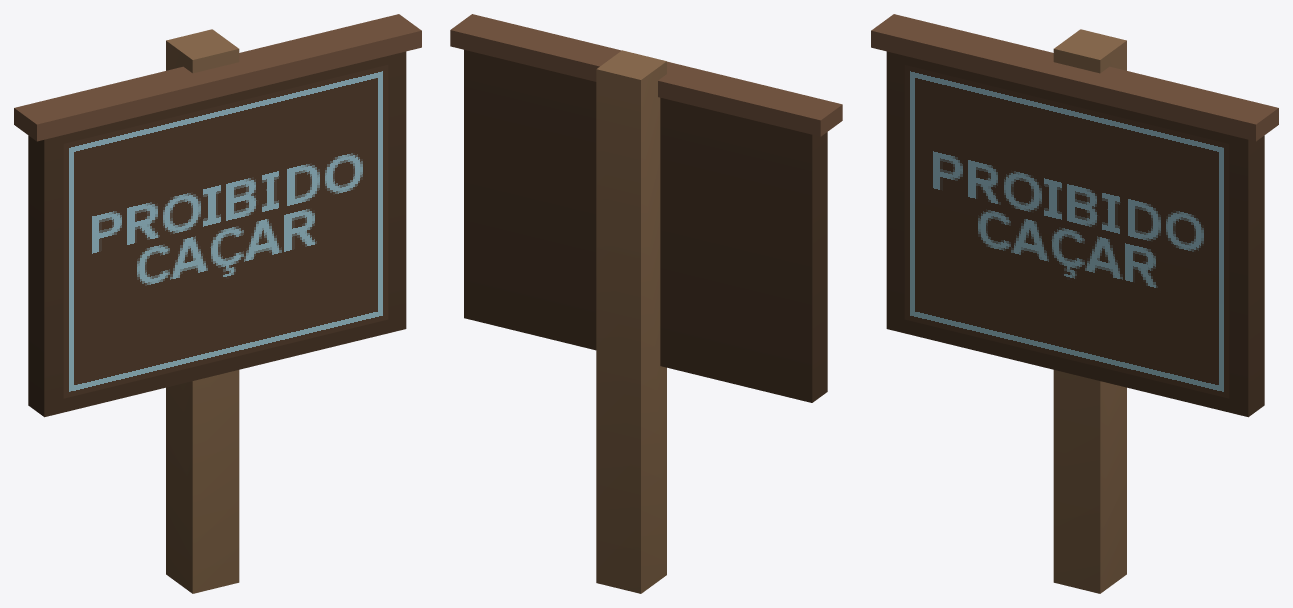
Rendered from custom-placa-proibido-cacar.glb.
3 views of the same model, side by side, from view 1: azimuth 30°, elevation 25°; view 2: azimuth 150°, elevation 25°; view 3: azimuth 330°, elevation 25° (orthographic). The views are drawn at different scales.
Visible parts, largest first — view 1: placa-proibido-cacar; view 2: placa-proibido-cacar; view 3: placa-proibido-cacar.
Part boxes in pixels (x1,y1,x2,y2): placa-proibido-cacar: (14, 14, 421, 593); placa-proibido-cacar: (450, 14, 842, 593); placa-proibido-cacar: (871, 14, 1278, 593).
Size of the model in its own units: 1.66 by 2.2 by 0.3.
2 materials, 1 textured.
